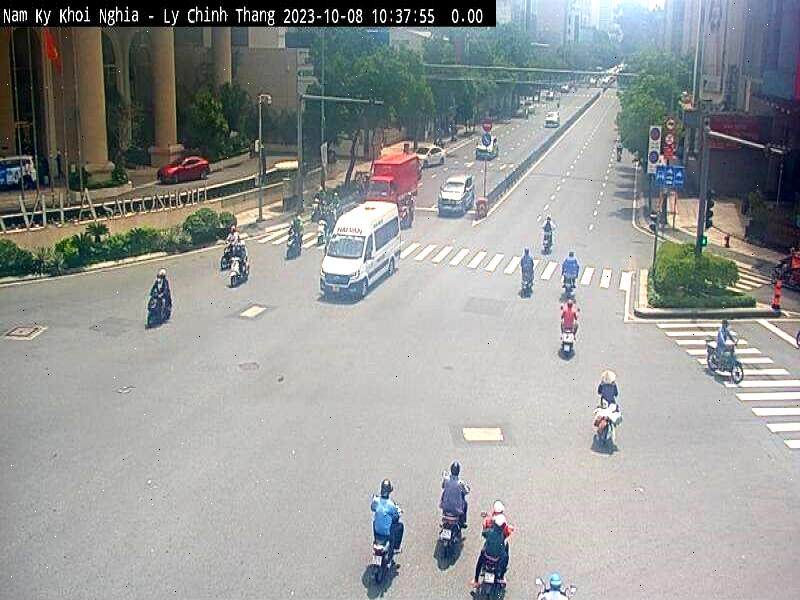car: (318, 204, 404, 301)
motorcycle: (706, 341, 743, 380), (368, 536, 392, 584)
